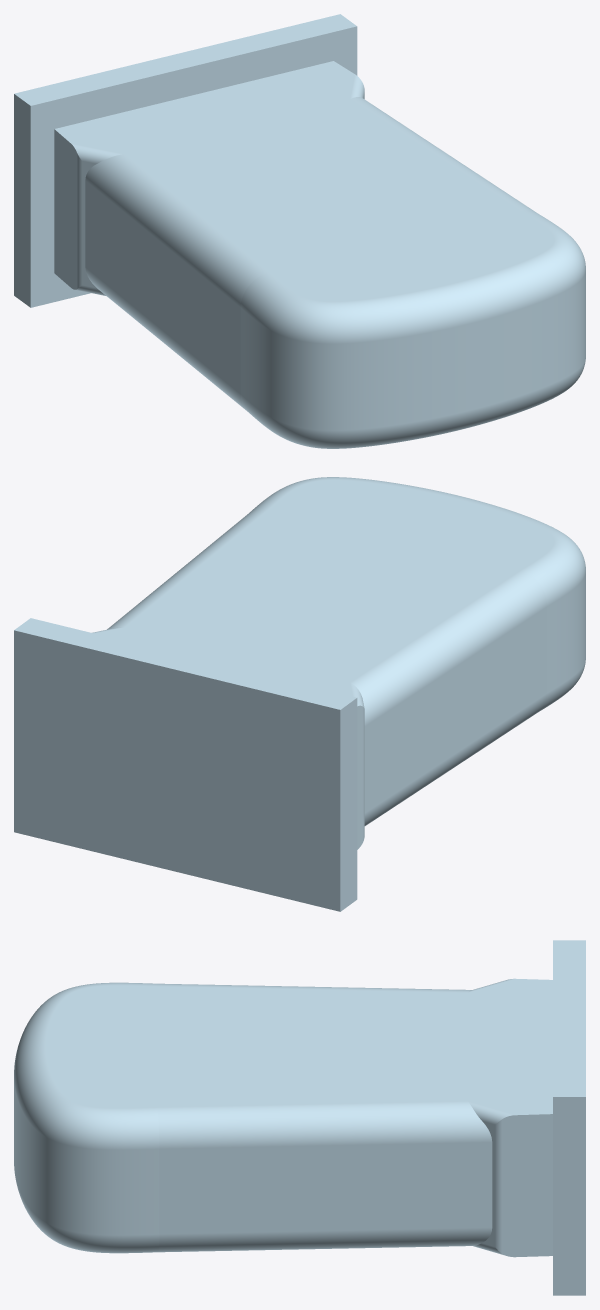
3 renders of one model, top to bottom at view 1: azimuth 30°, elevation 25°; view 2: azimuth 150°, elevation 25°; view 3: azimuth 270°, elevation 25°, orthographic.
Visible parts, largest first — view 1: PA-80-F_LOD0; view 2: PA-80-F_LOD0; view 3: PA-80-F_LOD0.
Boxes of the visible parts, x1,y1,x2,y2 form: PA-80-F_LOD0: (14,14,585,448); PA-80-F_LOD0: (14,477,585,911); PA-80-F_LOD0: (14,940,585,1295).
Size of what is drawn, in the model's own units: 60.17 by 35.56 by 92.75.
